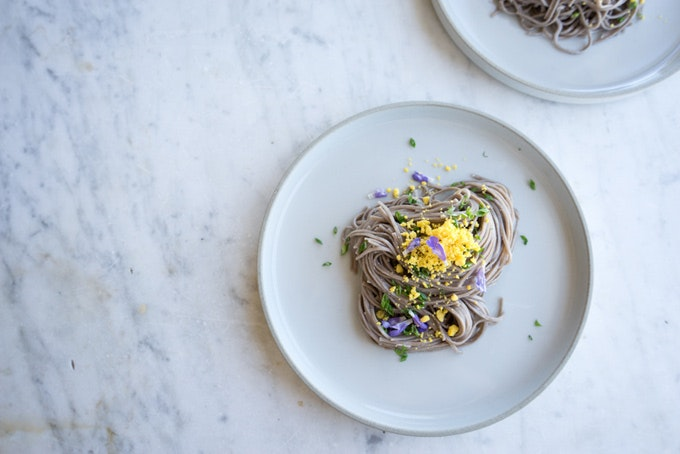Soba: (352, 174, 513, 366), (485, 1, 657, 56)
